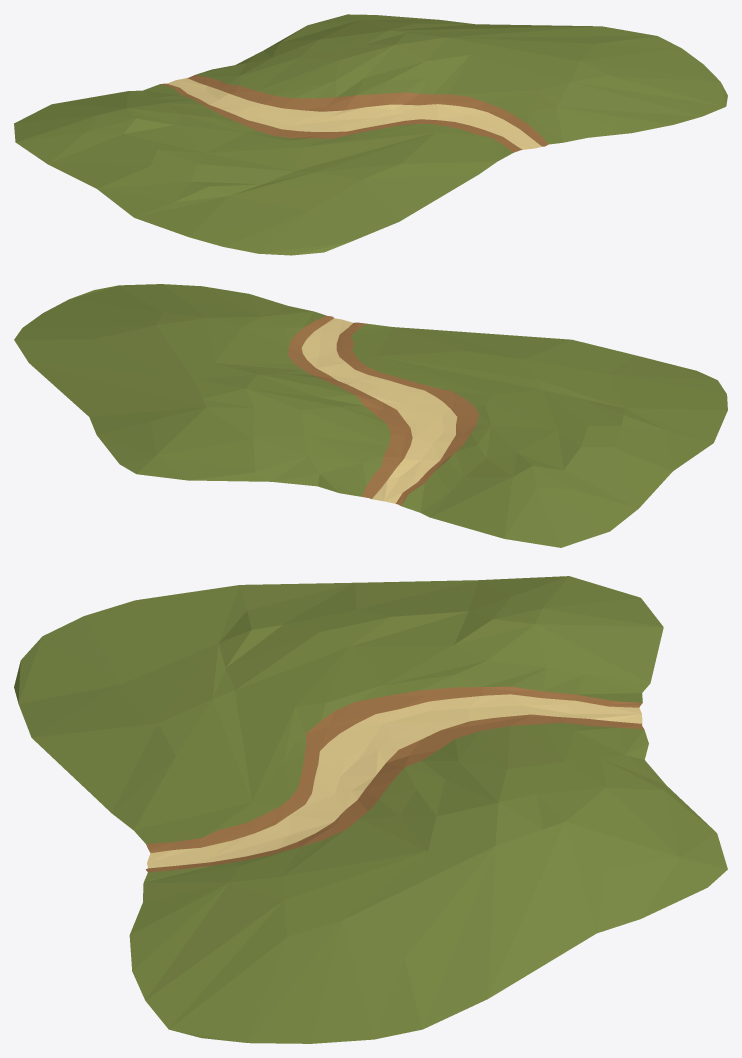
File: Terrain_Road_STurn-01.FBX
The picture shows the model from 3 angles, top to bottom: view 1: azimuth 30°, elevation 25°; view 2: azimuth 150°, elevation 25°; view 3: azimuth 270°, elevation 25°; orthographic projection. The views are drawn at different scales.
Visible parts, largest first — view 1: Terrain_Road_STurn-01; view 2: Terrain_Road_STurn-01; view 3: Terrain_Road_STurn-01.
Part boxes in pixels (bbox=[...]): Terrain_Road_STurn-01: bbox=[14, 14, 727, 255]; Terrain_Road_STurn-01: bbox=[14, 284, 727, 547]; Terrain_Road_STurn-01: bbox=[14, 576, 727, 1043].
Size of the model in its own units: 6942 by 418 by 4607.
1 material, 1 textured.
